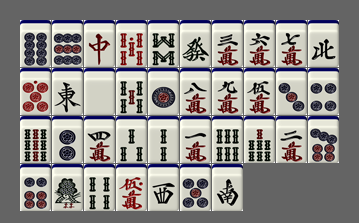0m: (116, 164, 147, 211)
0p: (20, 68, 51, 115)
0s: (116, 20, 147, 67)
1m: (180, 116, 211, 163)
1p: (148, 68, 179, 115)
1s: (52, 164, 83, 211)
1z: (52, 68, 83, 115)
2m: (276, 116, 307, 163)
2p: (52, 116, 83, 163)
2s: (148, 116, 179, 163)
2z: (212, 164, 243, 211)
3m: (212, 20, 243, 67)
3p: (276, 68, 307, 115)
3s: (116, 116, 147, 163)
3z: (148, 164, 179, 211)
4m: (84, 116, 115, 163)
4p: (308, 68, 339, 115)
4s: (84, 164, 115, 211)
4z: (308, 20, 339, 67)
5m: (244, 68, 275, 115)
5p: (180, 164, 211, 211)
5s: (116, 68, 147, 115)
5z: (84, 68, 115, 115)
6m: (244, 20, 275, 67)
6p: (20, 164, 51, 211)
6s: (212, 116, 243, 163)
6z: (180, 20, 211, 67)
7m: (276, 20, 307, 67)
7p: (308, 116, 339, 163)
7s: (244, 116, 275, 163)
7z: (84, 20, 115, 67)
8m: (180, 68, 211, 115)
8p: (20, 20, 51, 67)
8s: (148, 20, 179, 67)
9m: (212, 68, 243, 115)
9p: (52, 20, 83, 67)
9s: (20, 116, 51, 163)
